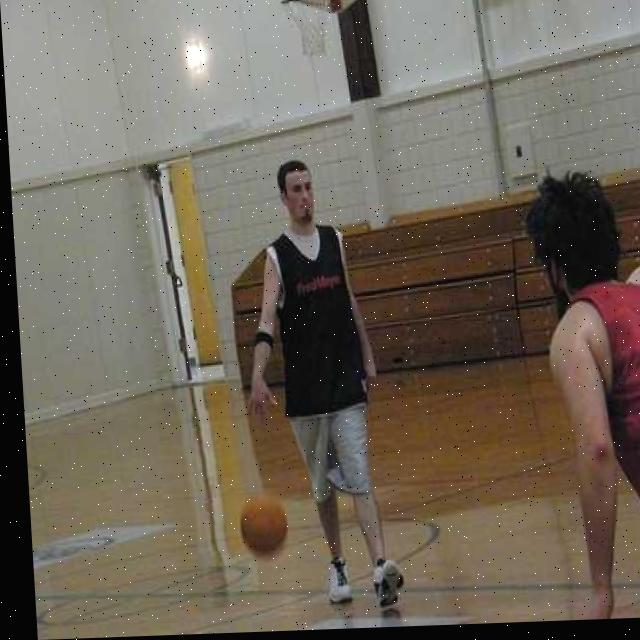basketball: (239, 489, 292, 561)
hoop: (279, 0, 337, 61)
